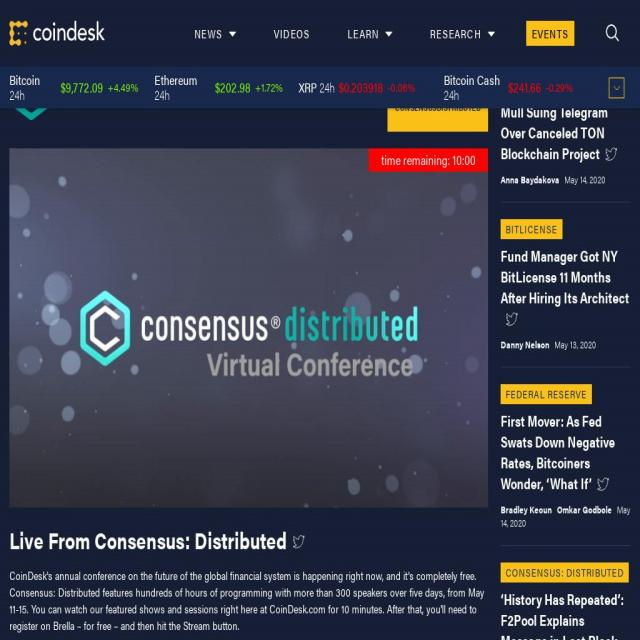navigation-links: (175, 10, 584, 52)
search: (589, 5, 630, 55)
